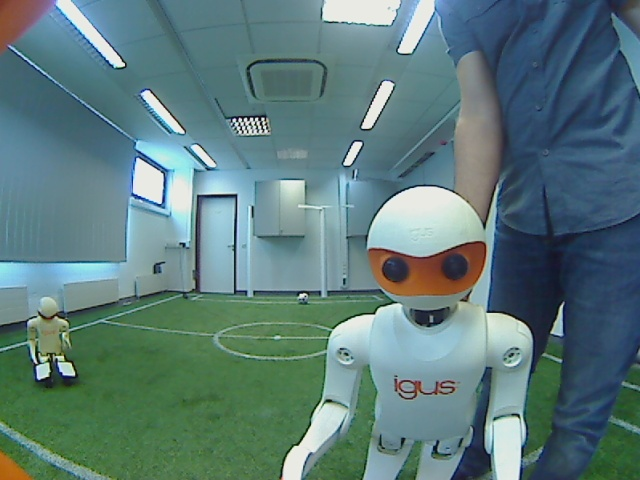ball: (292, 288, 313, 310)
robot: (305, 187, 528, 478), (19, 288, 89, 393)
